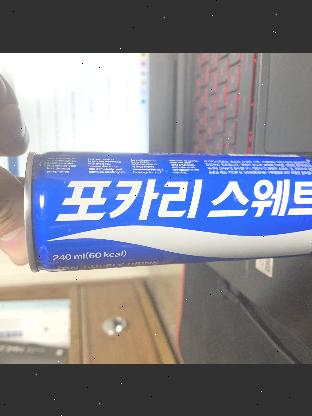Can: (28, 139, 312, 259)
